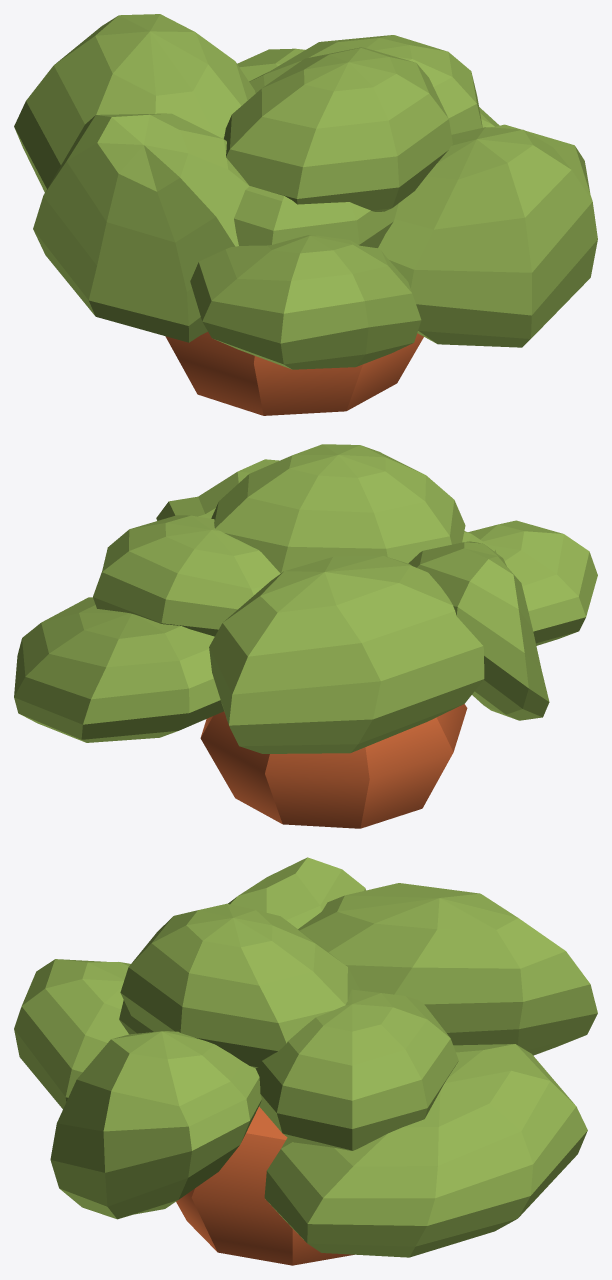
The model's file is shrubOrganic.fbx.
The picture shows the model from 3 angles, top to bottom: view 1: azimuth 30°, elevation 25°; view 2: azimuth 150°, elevation 25°; view 3: azimuth 270°, elevation 25°; orthographic projection. The views are drawn at different scales.
Visible parts, largest first — view 1: PrototypeLevelConcept:pSphere8, PrototypeLevelConcept:pSphere7, PrototypeLevelConcept:pSphere11, PrototypeLevelConcept:pSphere6, PrototypeLevelConcept:pSphere4, PrototypeLevelConcept:pCylinder5, PrototypeLevelConcept:pSphere5, PrototypeLevelConcept:pSphere10, PrototypeLevelConcept:pSphere9; view 2: PrototypeLevelConcept:pSphere4, PrototypeLevelConcept:pSphere9, PrototypeLevelConcept:pSphere11, PrototypeLevelConcept:pCylinder5, PrototypeLevelConcept:pSphere10, PrototypeLevelConcept:pSphere7, PrototypeLevelConcept:pSphere6, PrototypeLevelConcept:pSphere8; view 3: PrototypeLevelConcept:pSphere9, PrototypeLevelConcept:pSphere4, PrototypeLevelConcept:pSphere8, PrototypeLevelConcept:pSphere11, PrototypeLevelConcept:pSphere10, PrototypeLevelConcept:pSphere6, PrototypeLevelConcept:pCylinder5, PrototypeLevelConcept:pSphere7.
Part boxes in pixels (box(x1,y1,x2,y2)): PrototypeLevelConcept:pSphere8: box(378, 124, 597, 347); PrototypeLevelConcept:pSphere7: box(33, 113, 249, 342); PrototypeLevelConcept:pSphere11: box(224, 47, 452, 211); PrototypeLevelConcept:pSphere6: box(190, 235, 421, 369); PrototypeLevelConcept:pSphere4: box(14, 14, 255, 192); PrototypeLevelConcept:pCylinder5: box(165, 332, 423, 415); PrototypeLevelConcept:pSphere5: box(234, 186, 398, 247); PrototypeLevelConcept:pSphere10: box(249, 35, 482, 134); PrototypeLevelConcept:pSphere9: box(237, 48, 499, 127); PrototypeLevelConcept:pSphere4: box(209, 555, 484, 753); PrototypeLevelConcept:pSphere9: box(14, 597, 223, 742); PrototypeLevelConcept:pSphere11: box(211, 444, 465, 573); PrototypeLevelConcept:pCylinder5: box(200, 704, 467, 828); PrototypeLevelConcept:pSphere10: box(93, 515, 280, 636); PrototypeLevelConcept:pSphere7: box(408, 541, 549, 720); PrototypeLevelConcept:pSphere6: box(468, 520, 597, 645); PrototypeLevelConcept:pSphere8: box(156, 459, 278, 520); PrototypeLevelConcept:pSphere9: box(264, 1044, 587, 1257); PrototypeLevelConcept:pSphere4: box(298, 883, 597, 1055); PrototypeLevelConcept:pSphere8: box(50, 1031, 261, 1219); PrototypeLevelConcept:pSphere11: box(120, 903, 360, 1068); PrototypeLevelConcept:pSphere10: box(255, 989, 458, 1150); PrototypeLevelConcept:pSphere6: box(14, 959, 130, 1108); PrototypeLevelConcept:pCylinder5: box(176, 1106, 354, 1265); PrototypeLevelConcept:pSphere7: box(228, 857, 365, 928).
Size of the model in its own units: 133 by 82.61 by 139.
